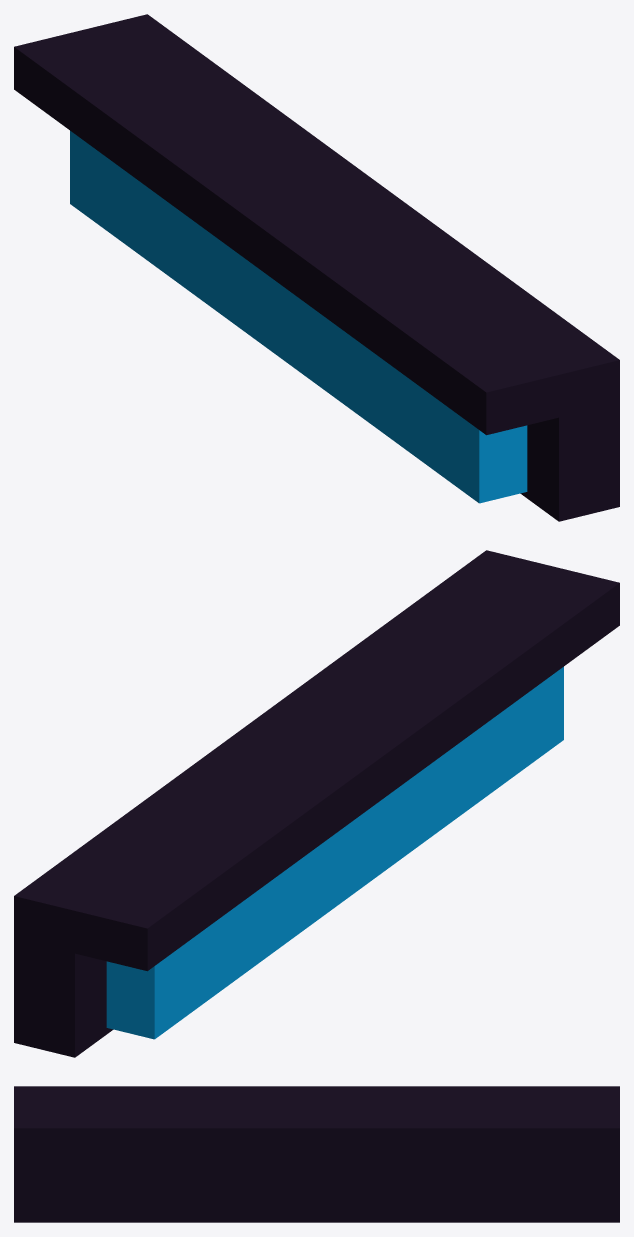
The model's file is Building_LongBlueLight.fbx.
3 renders of one model, top to bottom at view 1: azimuth 30°, elevation 25°; view 2: azimuth 150°, elevation 25°; view 3: azimuth 270°, elevation 25°, orthographic. The views are drawn at different scales.
Visible parts, largest first — view 1: Blue Outdoor Light; view 2: Blue Outdoor Light; view 3: Blue Outdoor Light.
Part boxes in pixels (<box>): Blue Outdoor Light: <box>14,14,619,521</box>; Blue Outdoor Light: <box>14,550,619,1057</box>; Blue Outdoor Light: <box>14,1086,619,1222</box>.
Bounding box in the file's own units: 19.08 × 20.06 × 117.
